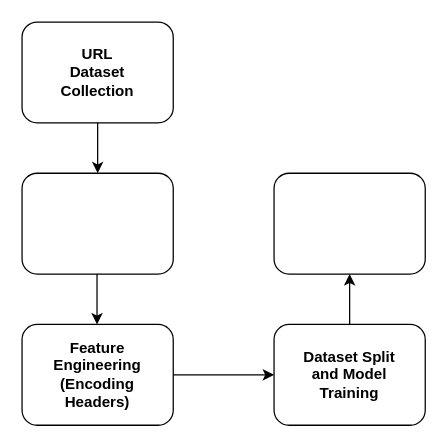
This 447x447 diagram has some shape labels left out. The shapes that lost their labels are listed below. From the top down, each one's centre as x and y in pixels, then its label:
At point 97,223: "HTTP Header Extraction".
At point 349,223: "Model Evaluation and Results".
